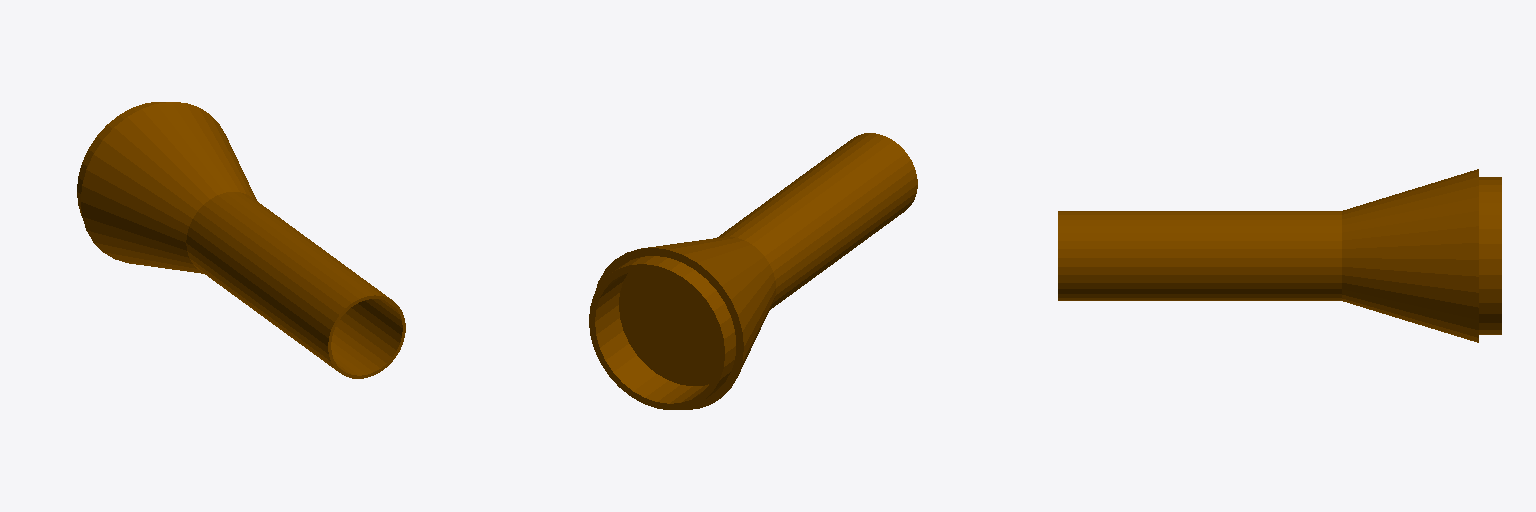
The model's file is latarkaBody.obj.
3 views of the same model, side by side, from view 1: azimuth 30°, elevation 25°; view 2: azimuth 150°, elevation 25°; view 3: azimuth 270°, elevation 25° (orthographic).
Parts seen in each view (by area): view 1: Cylinder.001; view 2: Cylinder.001; view 3: Cylinder.001.
Part boxes in pixels (left/top/right/bottom): Cylinder.001: left=77, top=102, right=405, bottom=378; Cylinder.001: left=589, top=133, right=917, bottom=409; Cylinder.001: left=1058, top=169, right=1501, bottom=342.
Size of the model in its own units: 3.88 by 3.88 by 9.87.